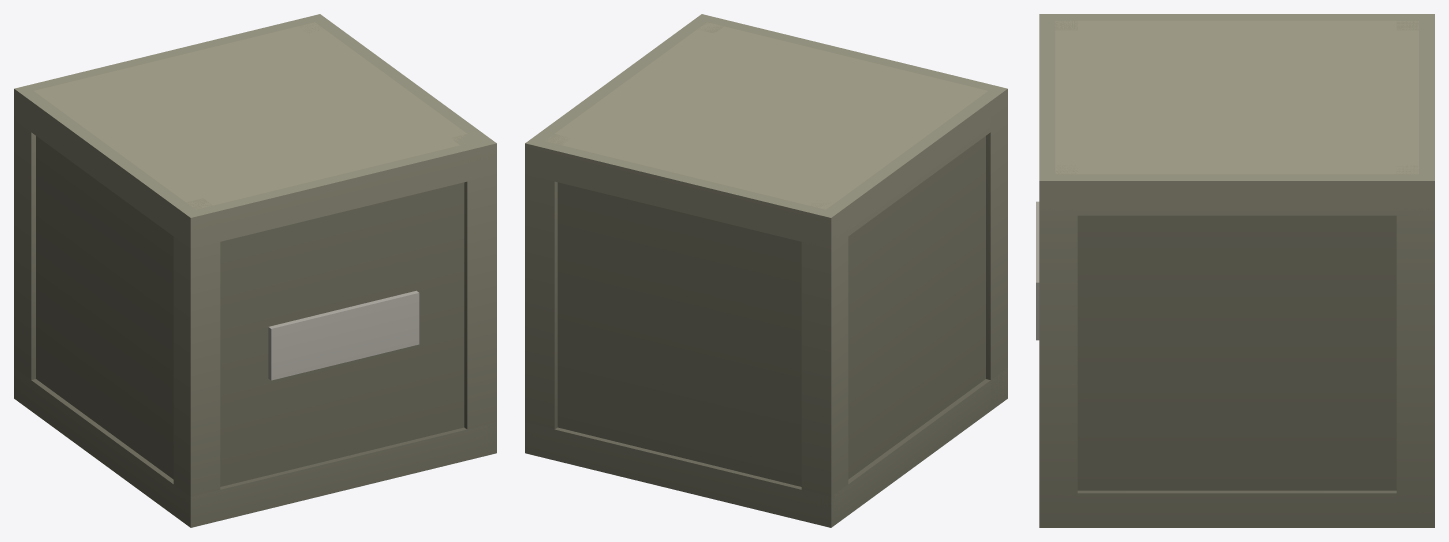
Rendered from int_crate.glb.
The picture shows the model from 3 angles, left to right: view 1: azimuth 30°, elevation 25°; view 2: azimuth 150°, elevation 25°; view 3: azimuth 270°, elevation 25°; orthographic projection. The views are drawn at different scales.
Parts seen in each view (by area): view 1: int_crate; view 2: int_crate; view 3: int_crate.
Part boxes in pixels (<box>): int_crate: <box>14,14,496,527</box>; int_crate: <box>525,14,1007,527</box>; int_crate: <box>1036,14,1434,527</box>.
Bounding box in the file's own units: 1.24 × 1.2 × 1.25.
